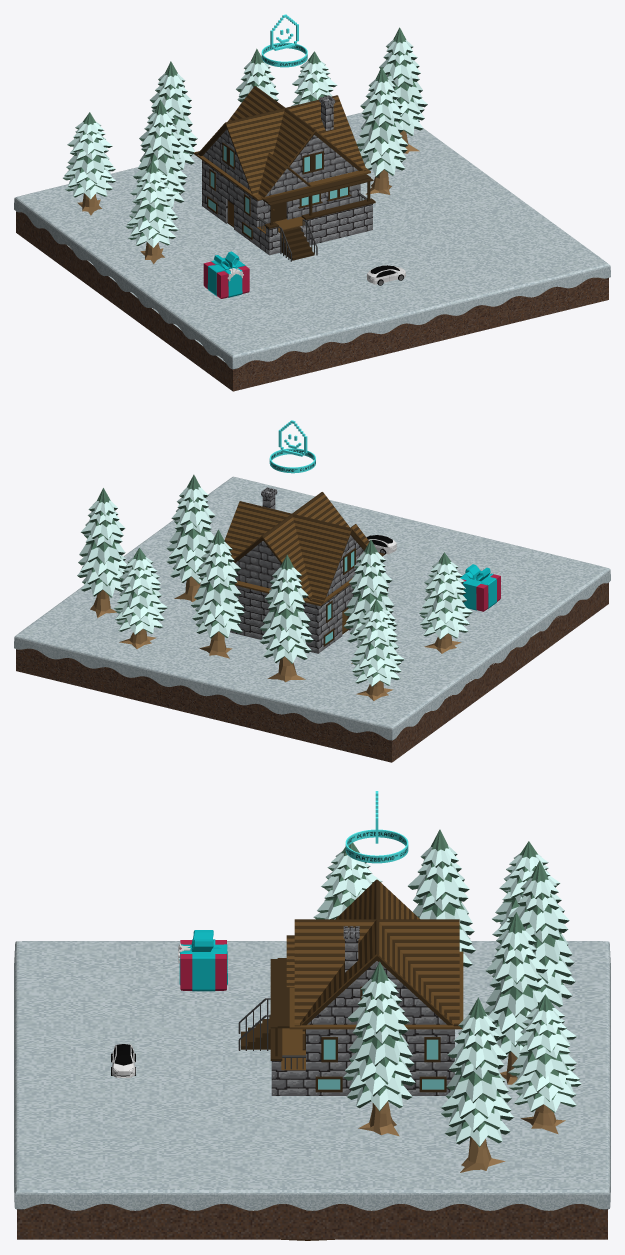
3 renders of one model, top to bottom at view 1: azimuth 30°, elevation 25°; view 2: azimuth 150°, elevation 25°; view 3: azimuth 270°, elevation 25°, orthographic. The views are drawn at different scales.
Parts seen in each view (by area): view 1: Cube.003, Cube.586, OBJRANDOM_GIANT_PRESENT, TYPE_PREMIUM, VEHICLES_TESLA; view 2: Cube.003, Cube.586, OBJRANDOM_GIANT_PRESENT, TYPE_PREMIUM; view 3: Cube.003, Cube.586, OBJRANDOM_GIANT_PRESENT, TYPE_PREMIUM, VEHICLES_TESLA.
Boxes of the visible parts, x1=… form: Cube.003: x1=14, y1=27, x2=610, y2=391; Cube.586: x1=193, y1=86, x2=375, y2=261; OBJRANDOM_GIANT_PRESENT: x1=203, y1=251, x2=249, y2=298; TYPE_PREMIUM: x1=261, y1=14, x2=307, y2=67; VEHICLES_TESLA: x1=366, y1=265, x2=405, y2=285; Cube.003: x1=14, y1=474, x2=610, y2=762; Cube.586: x1=224, y1=487, x2=387, y2=653; OBJRANDOM_GIANT_PRESENT: x1=460, y1=564, x2=500, y2=611; TYPE_PREMIUM: x1=269, y1=420, x2=315, y2=473; Cube.003: x1=14, y1=829, x2=610, y2=1239; Cube.586: x1=238, y1=879, x2=463, y2=1095; OBJRANDOM_GIANT_PRESENT: x1=178, y1=930, x2=227, y2=991; TYPE_PREMIUM: x1=345, y1=791, x2=408, y2=863; VEHICLES_TESLA: x1=111, y1=1044, x2=135, y2=1077.
Bounding box in the file's own units: 4040 × 2534 × 4040.
Materials: 27 (5 with a texture image).
